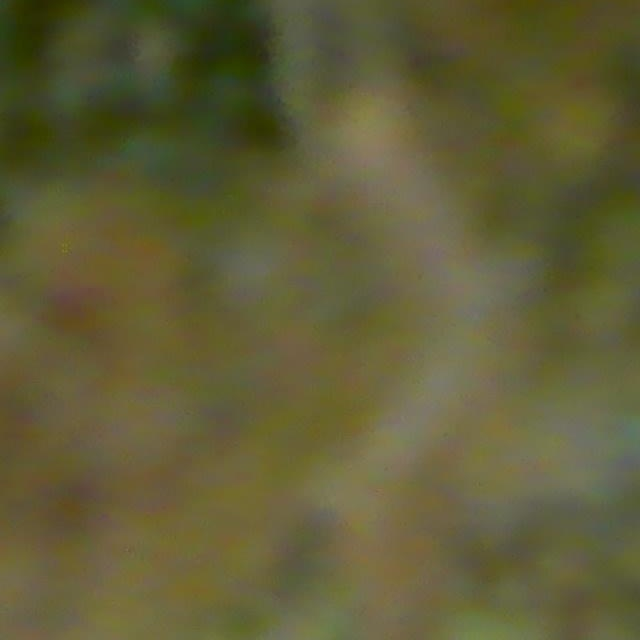SeaGrape: (576, 211, 640, 303)
